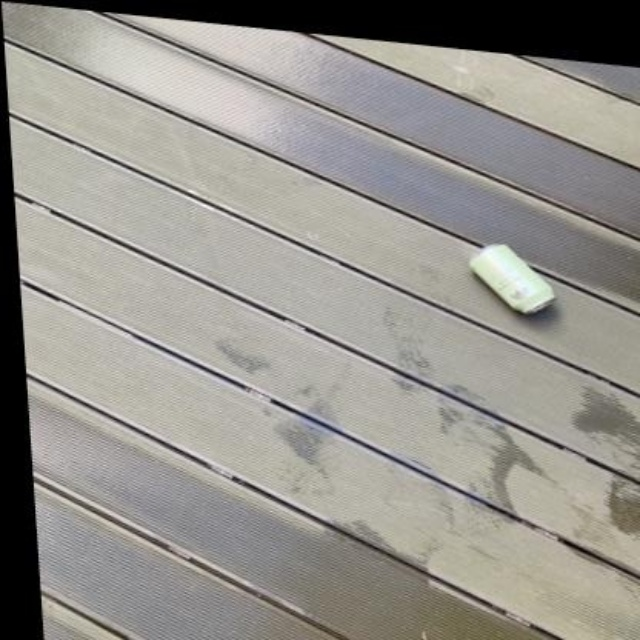trash: (469, 245, 552, 312)
